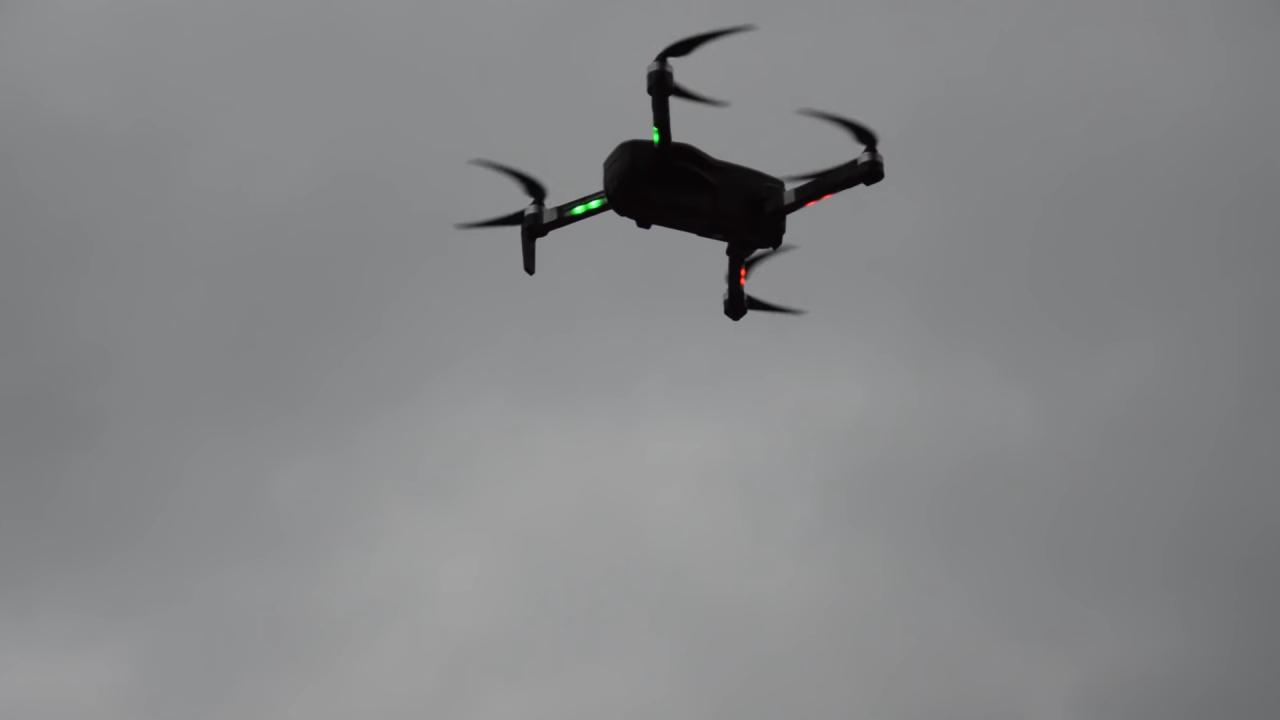Drone: (443, 16, 896, 329)
